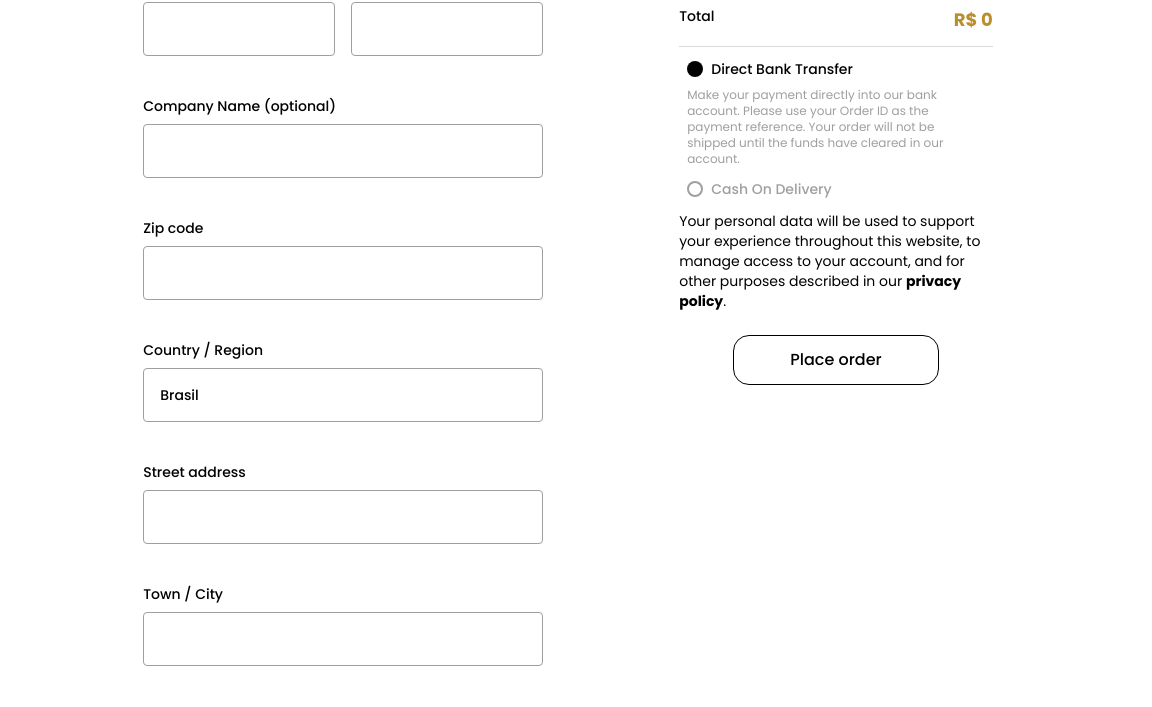
Test case: <Checkout /> › should display error message when trying to place order without data
(page scrolled)
Click the button "Place order": (836, 360) [733,335,939,385]
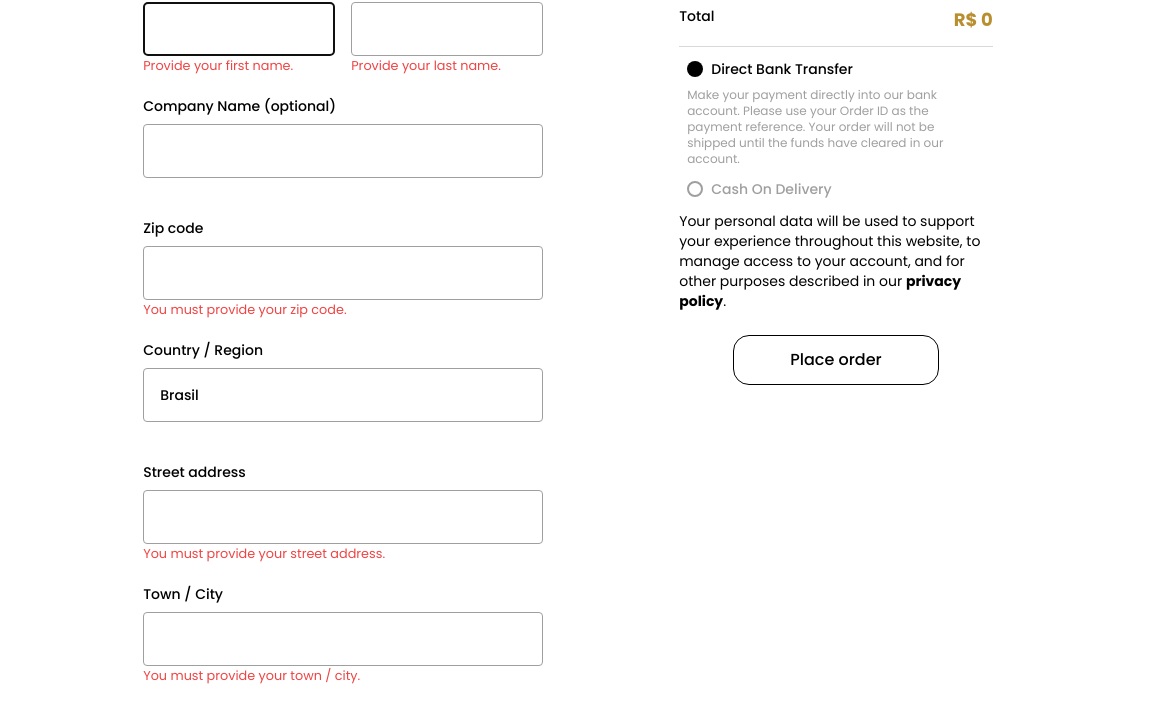
Check: the text "Provide your first name." is shown, box [143,56,293,76]
